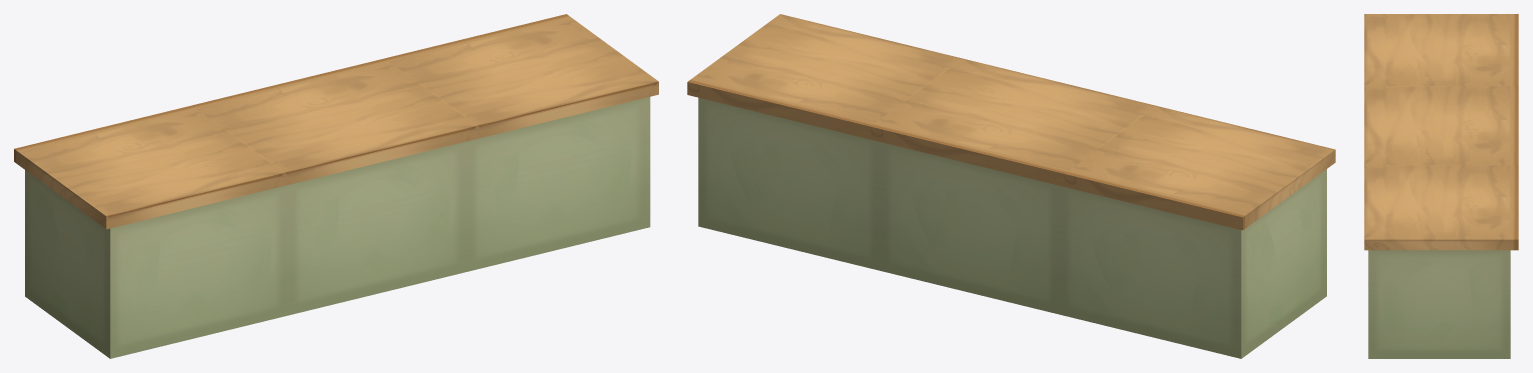
Rendered from Island.fbx.
3 renders of one model, left to right at view 1: azimuth 30°, elevation 25°; view 2: azimuth 150°, elevation 25°; view 3: azimuth 270°, elevation 25°, orthographic. The views are drawn at different scales.
Visible parts, largest first — view 1: Island; view 2: Island; view 3: Island.
Part boxes in pixels (box(x1,y1,x2,y2)): Island: box(14, 14, 658, 358); Island: box(687, 14, 1335, 358); Island: box(1364, 14, 1518, 358).
Size of the model in its own units: 319 by 80.5 by 92.37.
